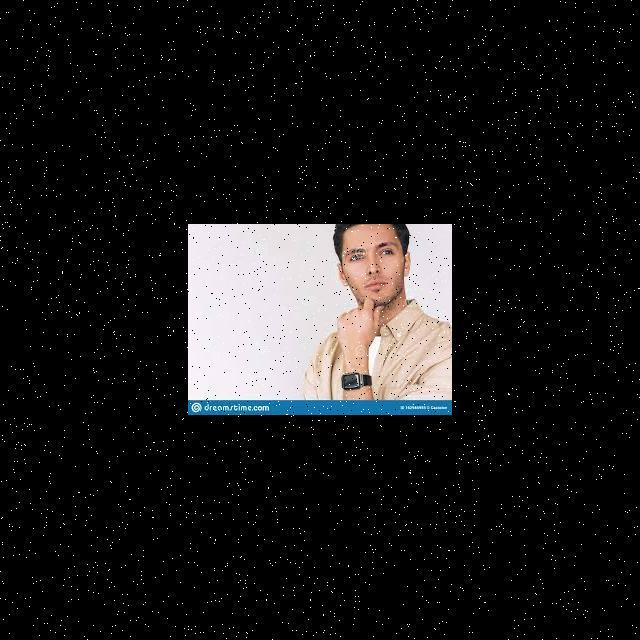watch: (318, 362, 382, 398)
